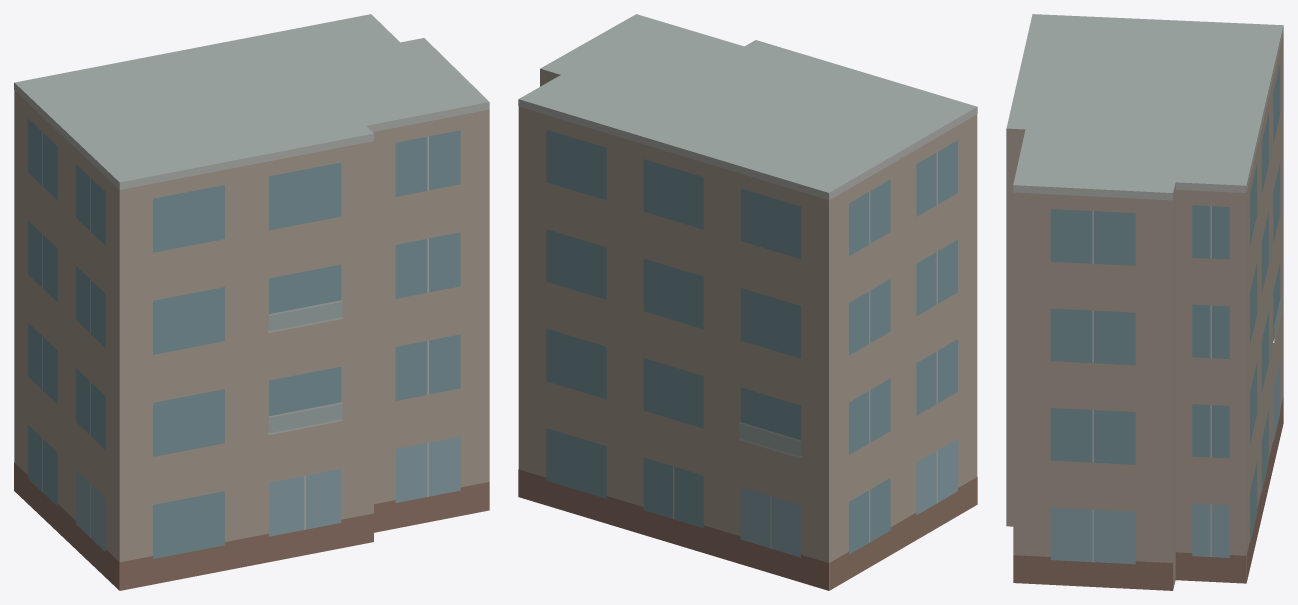
File: survey-upis-32670738.glb
3 renders of one model, left to right at view 1: azimuth 30°, elevation 25°; view 2: azimuth 150°, elevation 25°; view 3: azimuth 270°, elevation 25°, orthographic. The views are drawn at different scales.
Visible parts, largest first — view 1: survey-upis-32670738.tmp; view 2: survey-upis-32670738.tmp; view 3: survey-upis-32670738.tmp.
Part boxes in pixels (left/top/right/bottom): survey-upis-32670738.tmp: left=14, top=14, right=489, bottom=590; survey-upis-32670738.tmp: left=518, top=14, right=977, bottom=590; survey-upis-32670738.tmp: left=1006, top=14, right=1283, bottom=590.
Size of the model in its own units: 12.8 by 13.25 by 8.38.
